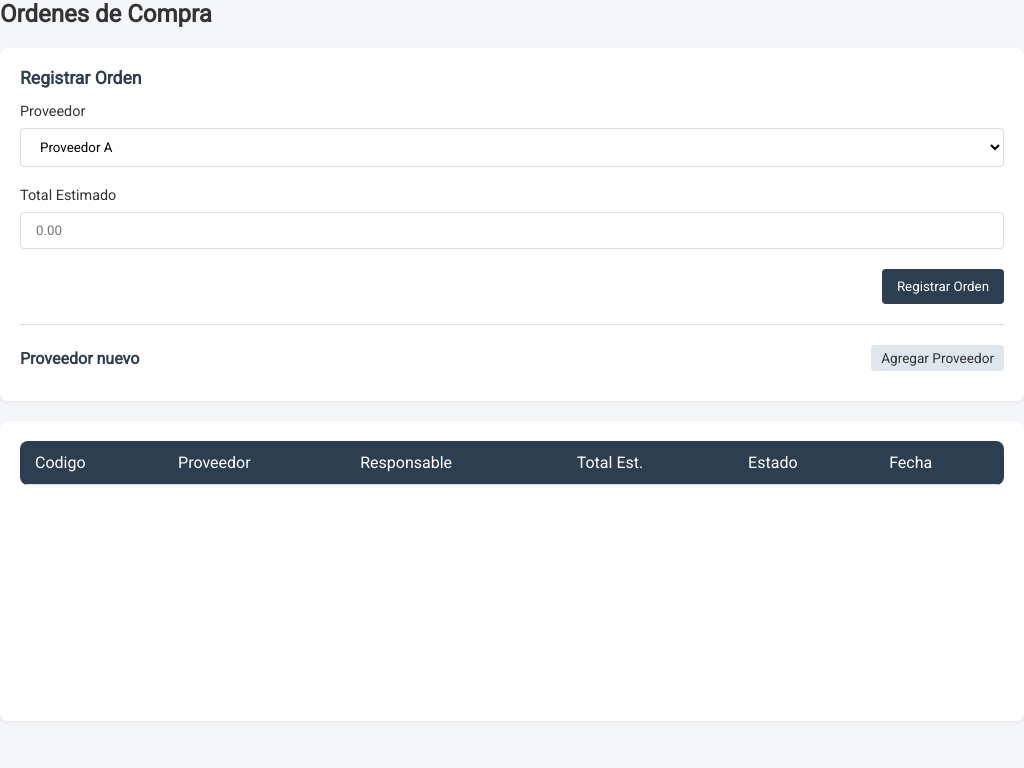
Test: OrdersView › creates an order with a selected provider
The width and height of the screenshot is (1024, 768).
Type "150.50" into the number field with id "estimatedTotal" at (512, 230), box [20,212,1004,249]
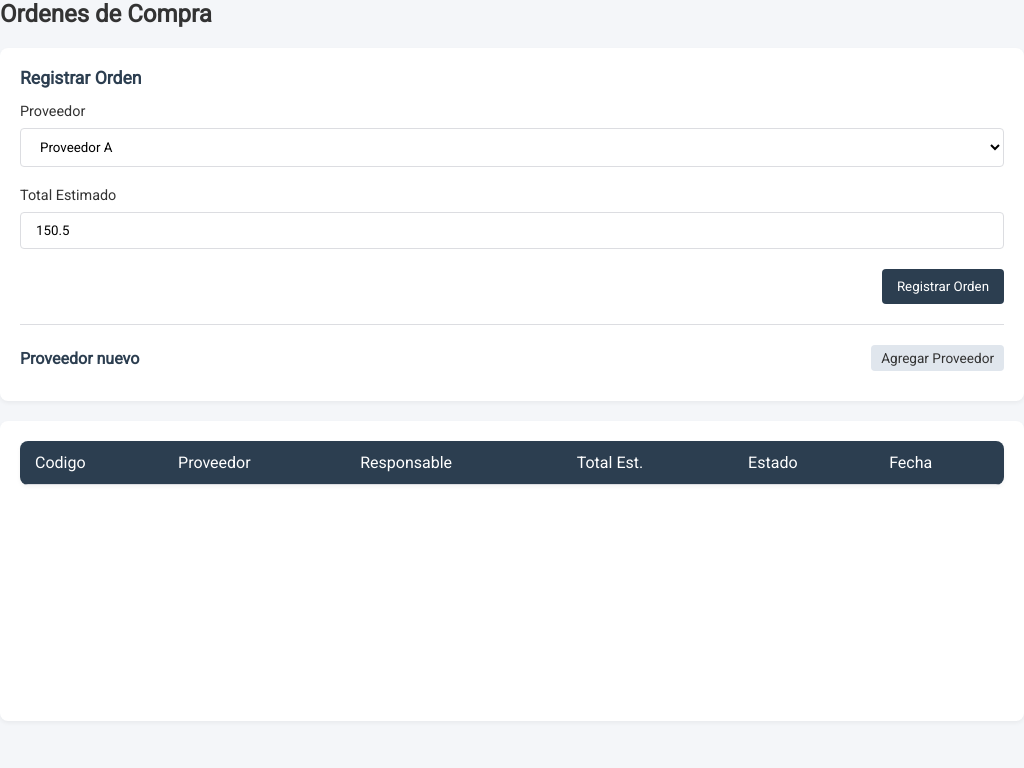
Click the button "Registrar Orden" at (943, 286), box [882,269,1004,304]
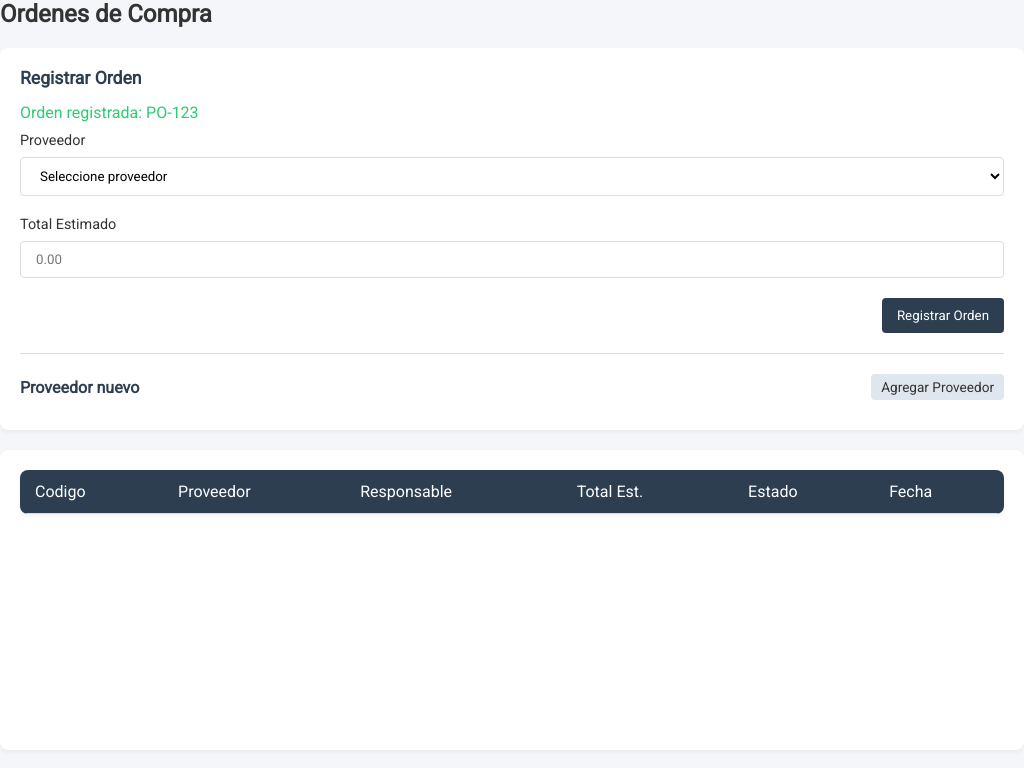
Check: the text "Orden registrada: PO-123" is shown, box [20,103,199,122]
